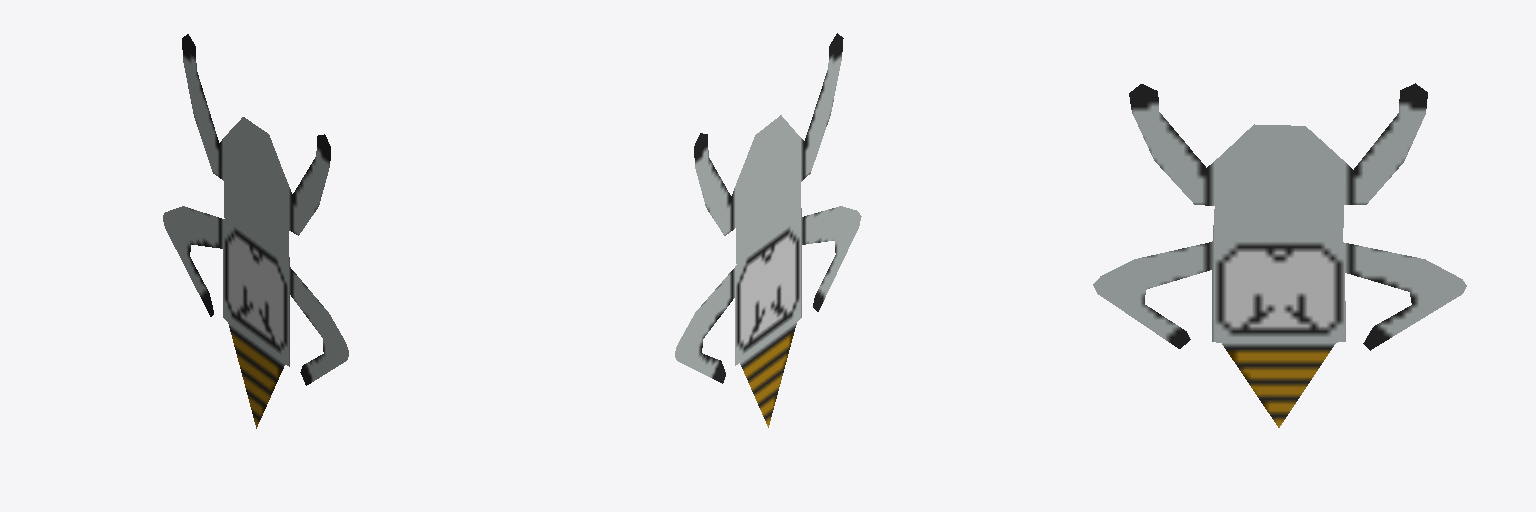
3 renders of one model, left to right at view 1: azimuth 30°, elevation 25°; view 2: azimuth 150°, elevation 25°; view 3: azimuth 270°, elevation 25°, orthographic.
Visible parts, largest first — view 1: 平面; view 2: 平面; view 3: 平面.
Boxes of the visible parts, x1=… form: 平面: x1=163, y1=34, x2=348, y2=428; 平面: x1=675, y1=33, x2=861, y2=427; 平面: x1=1093, y1=83, x2=1466, y2=427.
Bounding box in the file's own units: 0 × 1.97 × 1.93.
Materials: 1 (1 with a texture image).